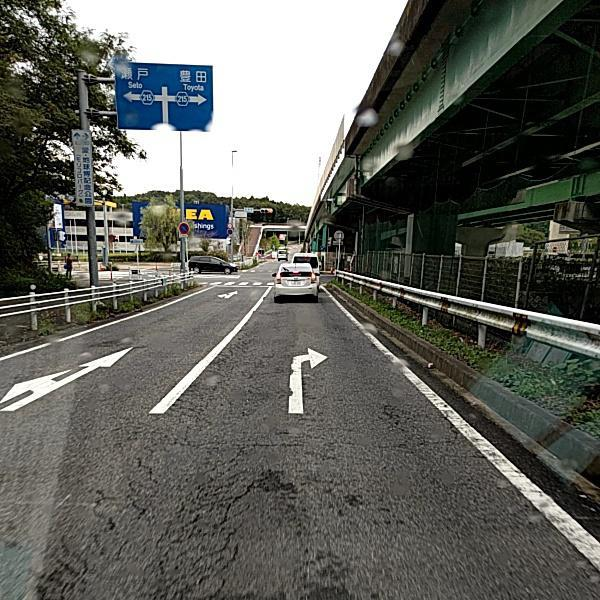D20: (35, 351, 306, 598)
